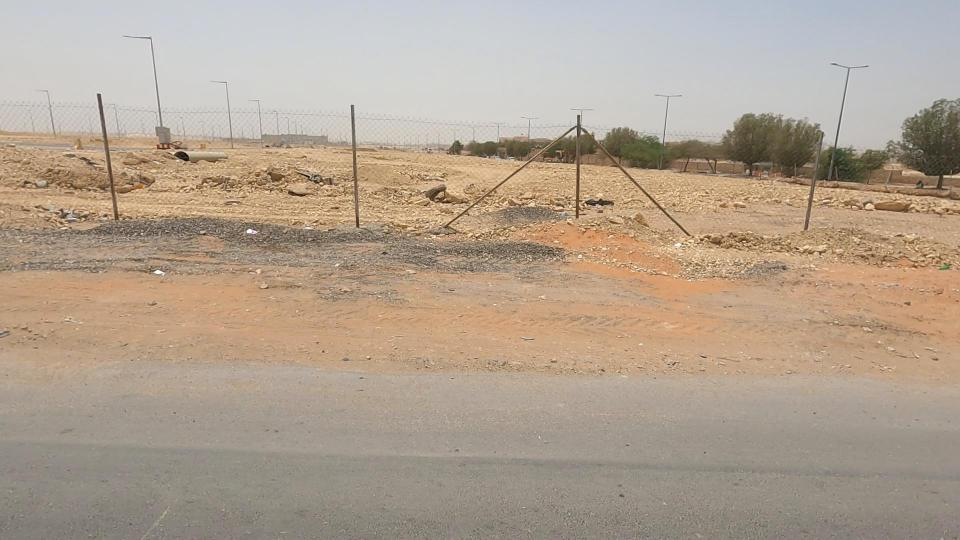GARBAGE: (216, 198, 282, 259), (130, 253, 191, 296)
